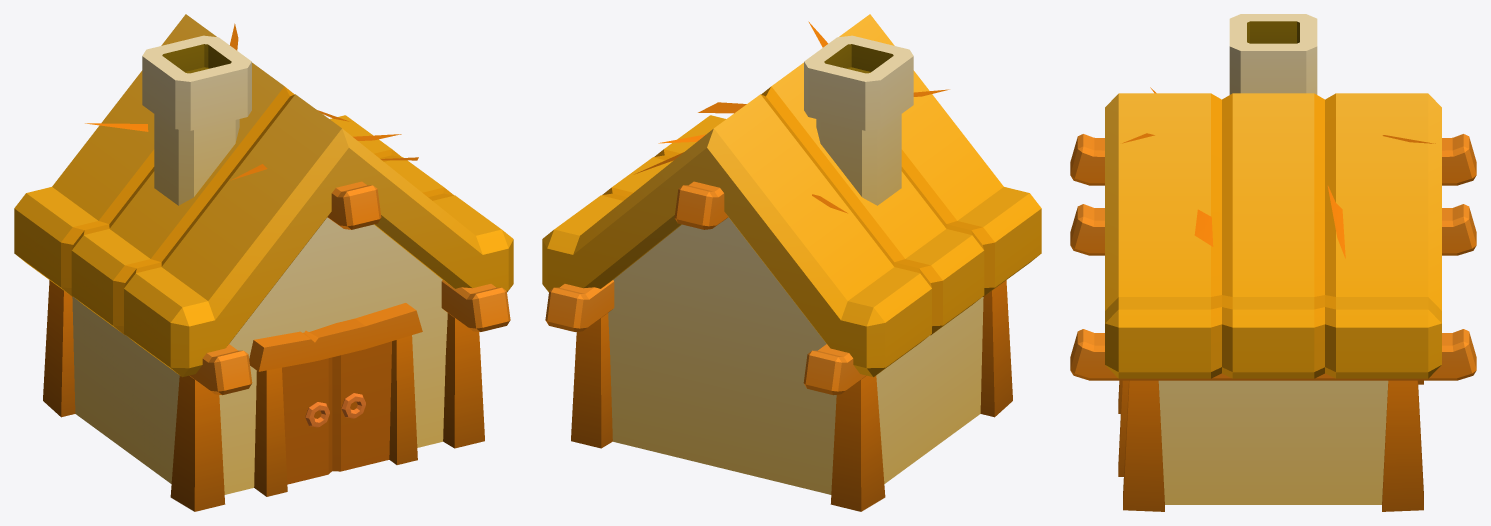
The model's file is Structure_Civil_House_01.fbx.
3 renders of one model, left to right at view 1: azimuth 30°, elevation 25°; view 2: azimuth 150°, elevation 25°; view 3: azimuth 270°, elevation 25°, orthographic.
Parts seen in each view (by area): view 1: Structure_Civil_House_01; view 2: Structure_Civil_House_01; view 3: Structure_Civil_House_01.
Part boxes in pixels (left/top/right/bottom): Structure_Civil_House_01: left=14, top=14, right=513, bottom=511; Structure_Civil_House_01: left=542, top=14, right=1041, bottom=511; Structure_Civil_House_01: left=1070, top=14, right=1476, bottom=511.
Bounding box in the file's own units: 513 × 541 × 531.
